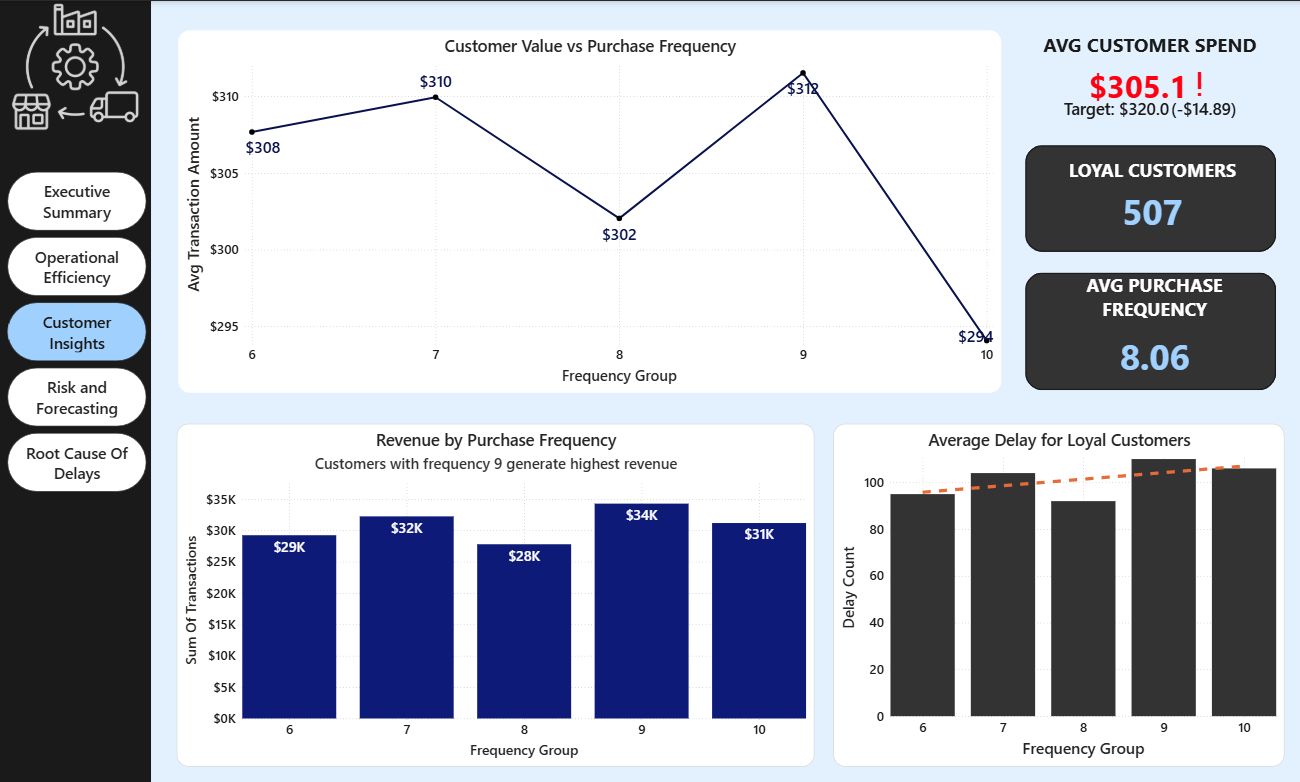

The page's visual inventory and layout, read from the dashboard file:
{"tool":"powerbi","page":{"name":"Customer Insights ","canvas":[2000,1200],"ordinal":2},"visuals":[{"type":"shape","box":[1570.9,415.5,384.3,180.1],"z":0},{"type":"shape","box":[0,0,233,1201],"z":1000},{"type":"pageNavigator","title":"Navigate","box":[12,261.8,213.8,492.4],"z":2000},{"type":"lineChart","title":"Customer Value vs Purchase Frequency","fields":{"Category":["vw_CustomerLoyalty.User_Purchase_Frequency"],"Y":["Avg(vw_CustomerLoyalty.User_Transaction_Amount)"]},"box":[273.8,45.6,1261,554.9],"z":3000},{"type":"columnChart","title":"Revenue by Purchase Frequency","fields":{"Category":["vw_CustomerLoyalty.User_Purchase_Frequency"],"Y":["Sum(vw_CustomerLoyalty.User_Transaction_Amount)"]},"box":[273.4,646.9,976.4,524.8],"z":4000},{"type":"clusteredColumnChart","title":"Average Delay for Loyal Customers","fields":{"Category":["vw_CustomerLoyalty.User_Purchase_Frequency"],"Y":["CountNonNull(vw_CustomerLoyalty.Logistics_Delay)"]},"box":[1279.1,646.9,690.8,524.8],"z":5000},{"type":"image","title":"Logo","box":[9.6,0,216.2,201.8],"z":6000},{"type":"shape","box":[1570.9,221,384.3,163.3],"z":7000},{"type":"shape","box":[1534.2,46.4,385.7,156.2],"z":8000},{"type":"card","title":"LOYAL CUSTOMERS","fields":{"Values":["vw_CustomerLoyalty.LOYAL CUSTOMERS"]},"box":[1628.5,240.2,278.6,124.9],"z":9000},{"type":"card","title":"AVG PURCHASE FREQUENCY","fields":{"Values":["Avg(vw_CustomerLoyalty.User_Purchase_Frequency)"]},"box":[1580.5,415.5,379.5,180.1],"z":10000},{"type":"kpi","title":"AVG CUSTOMER SPEND","fields":{"Indicator":["Avg(vw_CustomerLoyalty.User_Transaction_Amount)"],"TrendLine":["Calendar.Date.Variation.Date Hierarchy.Month"],"Goal":["vw_CustomerLoyalty.Target Spend"]},"box":[1580.5,48,365.1,156.1],"z":11000}]}

Visuals, with their boxes in screenshot pixels (x1, y1, x2, y2), scaled from the page's 2000x1200 canvas onto the 1300x782 screenshot:
shape: box=[1021, 271, 1271, 388]
shape: box=[0, 0, 151, 781]
"Navigate" pageNavigator: box=[8, 171, 147, 491]
"Customer Value vs Purchase Frequency" lineChart: box=[178, 30, 998, 391]
"Revenue by Purchase Frequency" columnChart: box=[178, 422, 812, 764]
"Average Delay for Loyal Customers" clusteredColumnChart: box=[831, 422, 1280, 764]
"Logo" image: box=[6, 0, 147, 132]
shape: box=[1021, 144, 1271, 250]
shape: box=[997, 30, 1248, 132]
"LOYAL CUSTOMERS" card: box=[1059, 157, 1240, 238]
"AVG PURCHASE FREQUENCY" card: box=[1027, 271, 1274, 388]
"AVG CUSTOMER SPEND" kpi: box=[1027, 31, 1265, 133]
